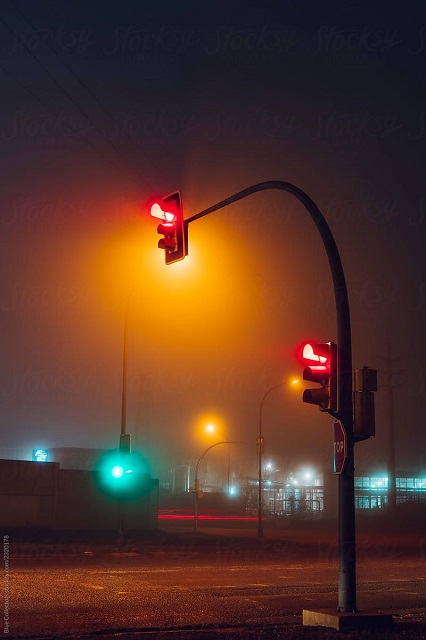pole: (338, 328, 356, 612)
traffic light: (151, 190, 190, 265), (298, 341, 338, 414), (353, 371, 377, 442)
